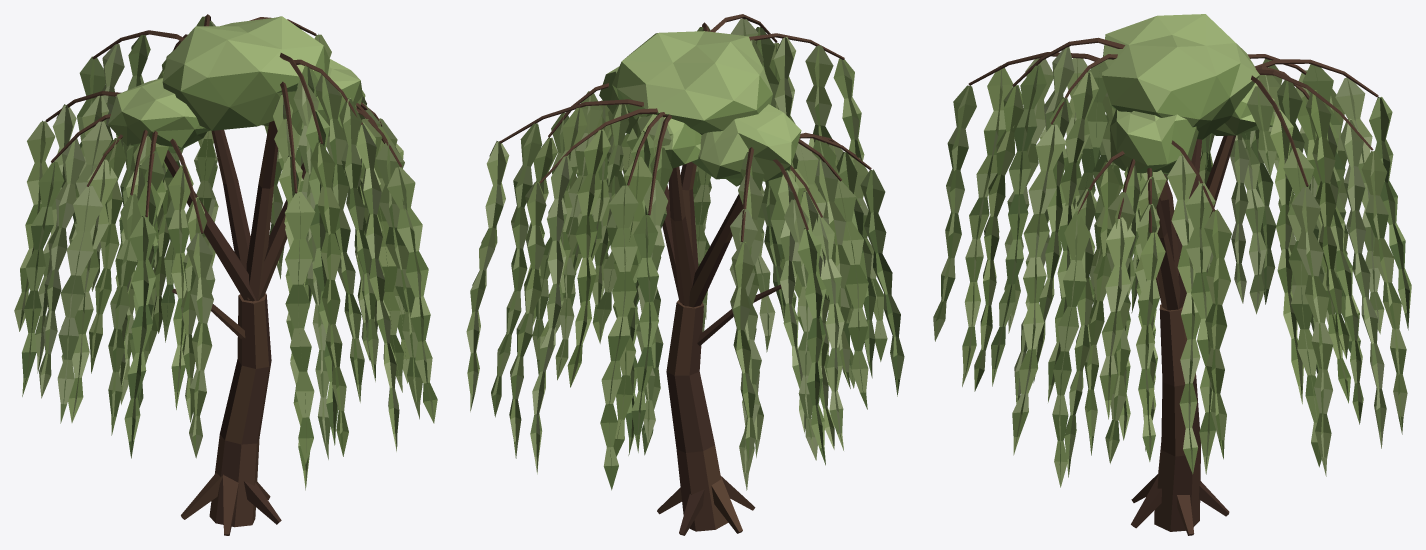
The model's file is river_willow.glb.
The picture shows the model from 3 angles, left to right: view 1: azimuth 30°, elevation 25°; view 2: azimuth 150°, elevation 25°; view 3: azimuth 270°, elevation 25°; orthographic projection. The views are drawn at different scales.
Parts seen in each view (by area): view 1: river_willow; view 2: river_willow; view 3: river_willow.
Boxes of the visible parts, left/top/right/bottom form: river_willow: left=14, top=14, right=437, bottom=535; river_willow: left=466, top=14, right=904, bottom=535; river_willow: left=933, top=14, right=1411, bottom=535.
Bounding box in the file's own units: 7.29 × 10.11 × 8.77.
